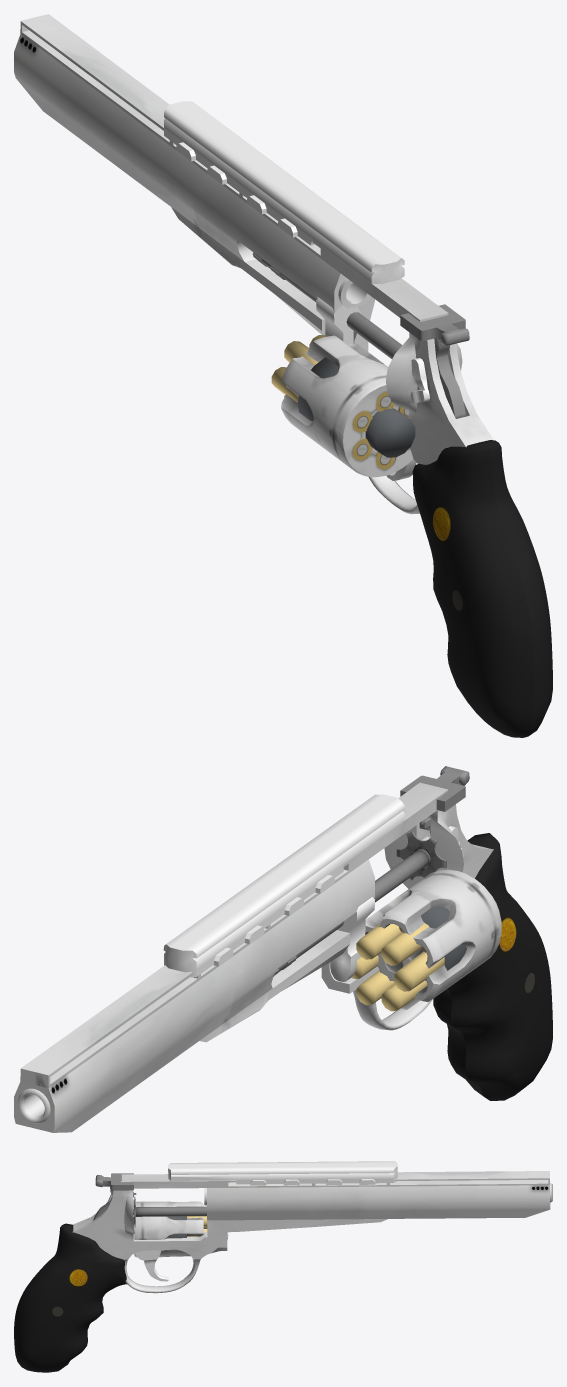
The model's file is weapon_magnum.glb.
3 views of the same model, one above another, from view 1: azimuth 30°, elevation 25°; view 2: azimuth 150°, elevation 25°; view 3: azimuth 270°, elevation 25° (orthographic). The views are drawn at different scales.
Parts seen in each view (by area): view 1: Receiver, Cylinder, Hammer, SpeedLoader, Crane, SpeedLoaderRounds; view 2: Receiver, Cylinder, SpeedLoaderRounds, Crane, Hammer, SpeedLoader; view 3: Receiver, Cylinder, Crane, Hammer.
Part boxes in pixels (bbox=[...]): Receiver: bbox=[14, 14, 552, 737]; Cylinder: bbox=[281, 335, 413, 477]; Hammer: bbox=[400, 304, 469, 418]; SpeedLoader: bbox=[297, 357, 415, 457]; Crane: bbox=[252, 252, 402, 358]; SpeedLoaderRounds: bbox=[271, 335, 326, 402]; Receiver: bbox=[14, 782, 552, 1132]; Cylinder: bbox=[365, 869, 501, 1009]; SpeedLoaderRounds: bbox=[351, 923, 444, 1011]; Crane: bbox=[273, 831, 446, 981]; Hammer: bbox=[400, 766, 469, 834]; SpeedLoader: bbox=[383, 906, 466, 970]; Receiver: bbox=[14, 1161, 552, 1372]; Cylinder: bbox=[134, 1201, 203, 1257]; Crane: bbox=[133, 1196, 228, 1239]; Hammer: bbox=[93, 1173, 136, 1220].
Bounding box in the file's own units: 0.0497 × 0.1524 × 0.36.
Materials: 11 (4 with a texture image).
